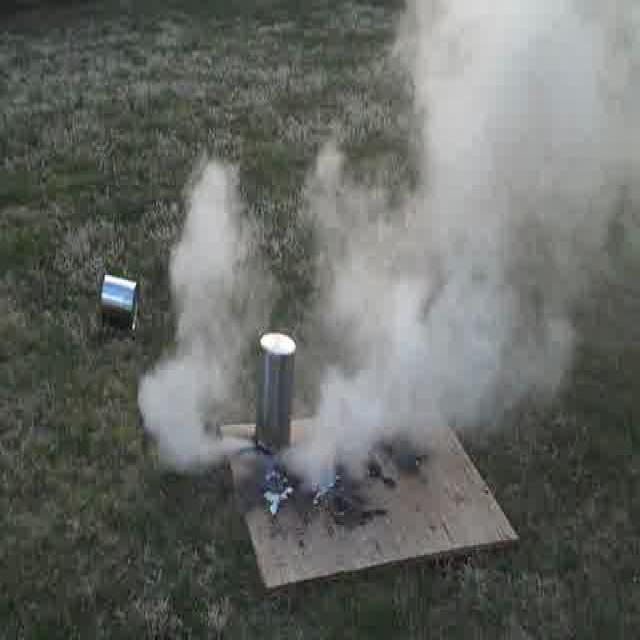Smoke: (318, 5, 640, 452), (138, 172, 248, 466)
